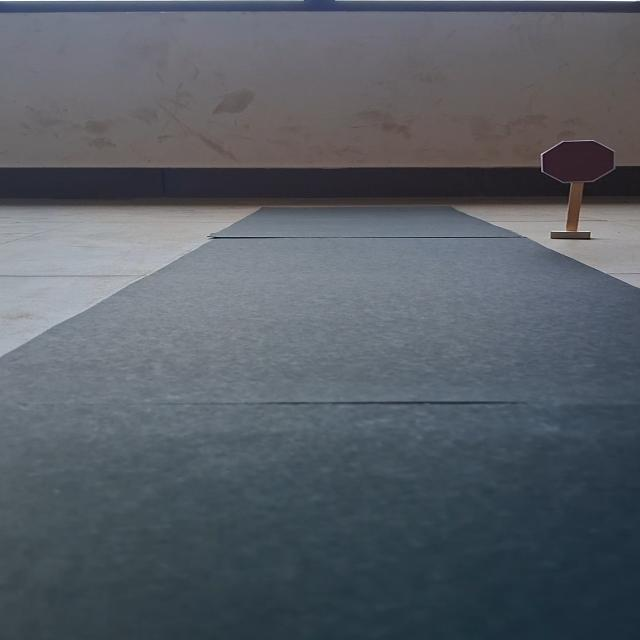Stop: (540, 140, 616, 182)
